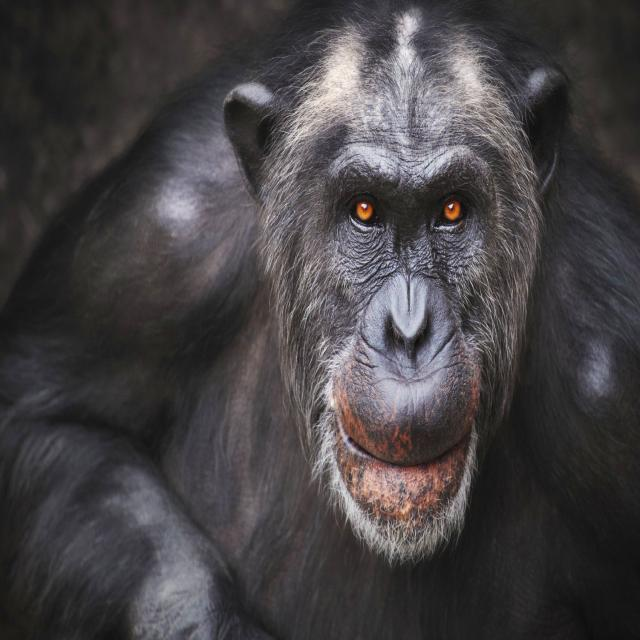chimpanzee: (0, 2, 640, 639)
